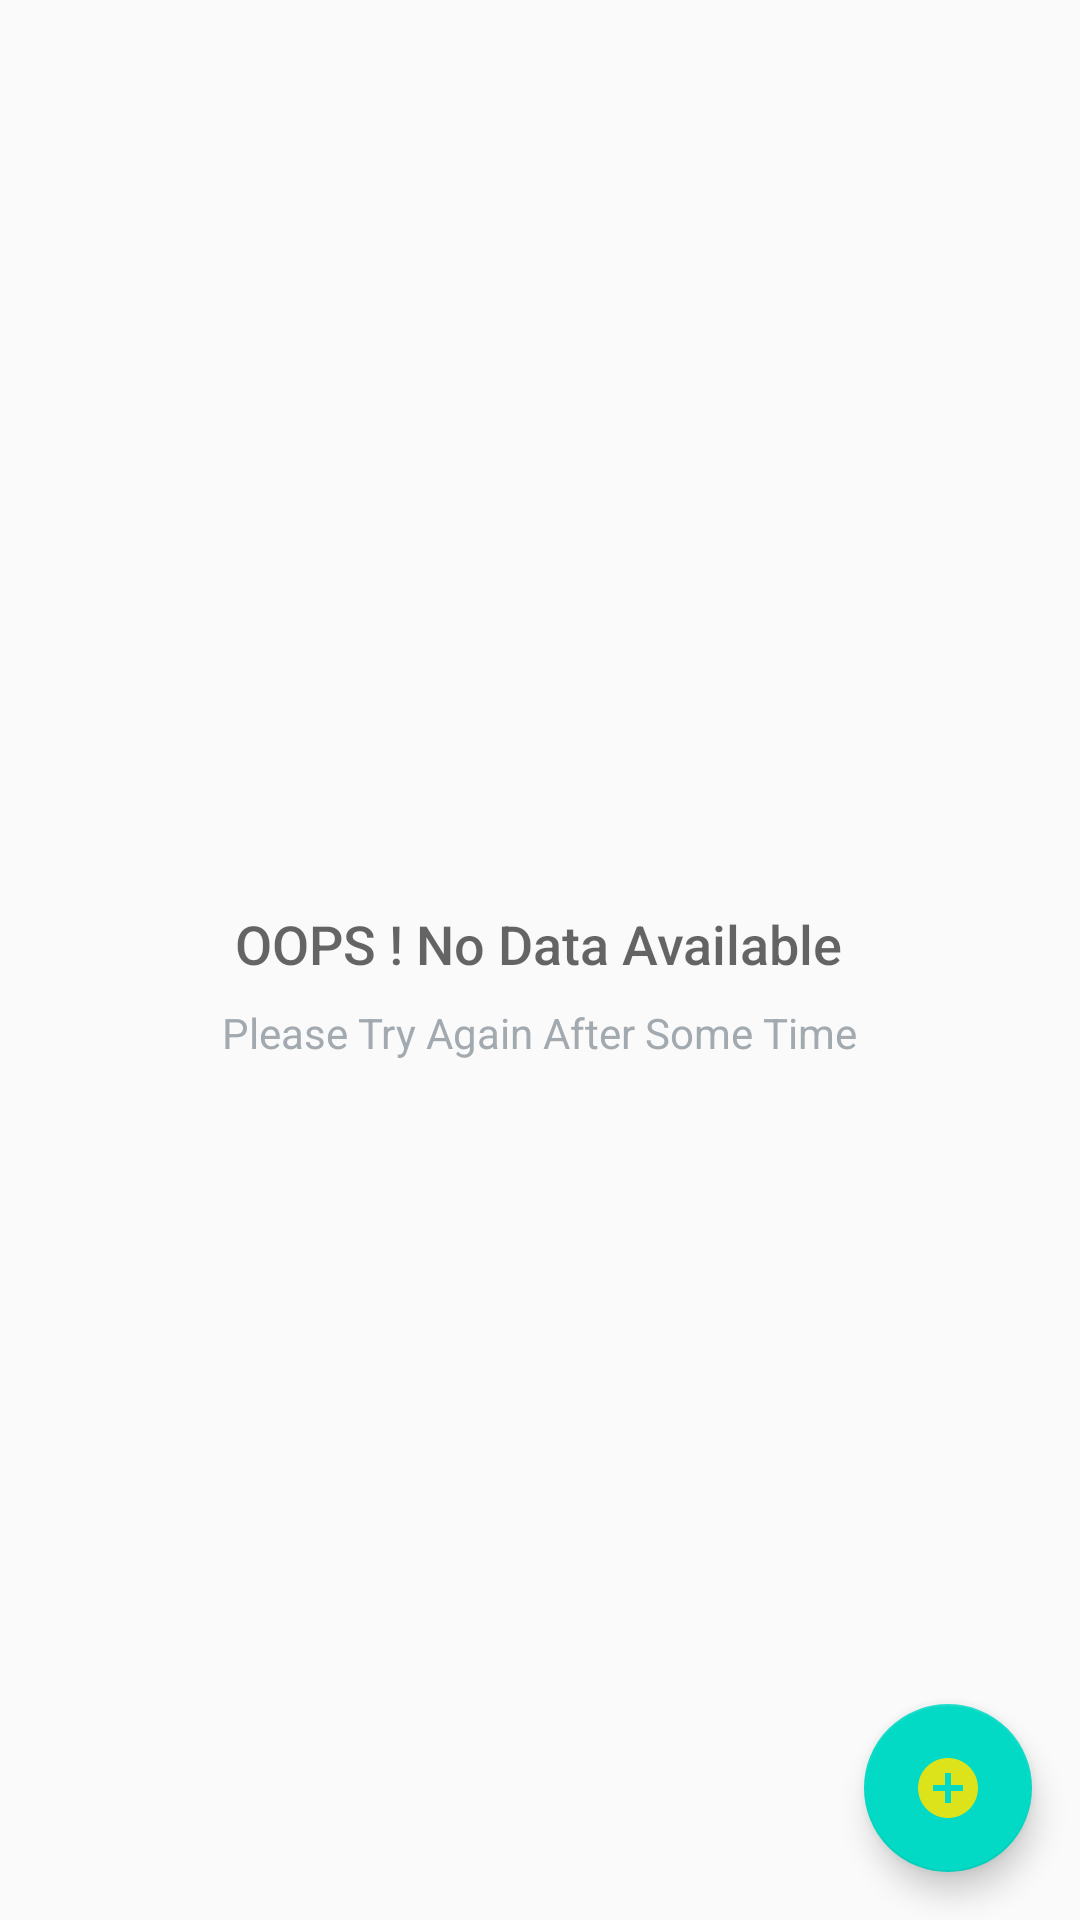

Icons on this 1080px×1920px Android screen, each with its box as box(x1, y1, x2, y2):
add boook: box(864, 1704, 1032, 1872)
